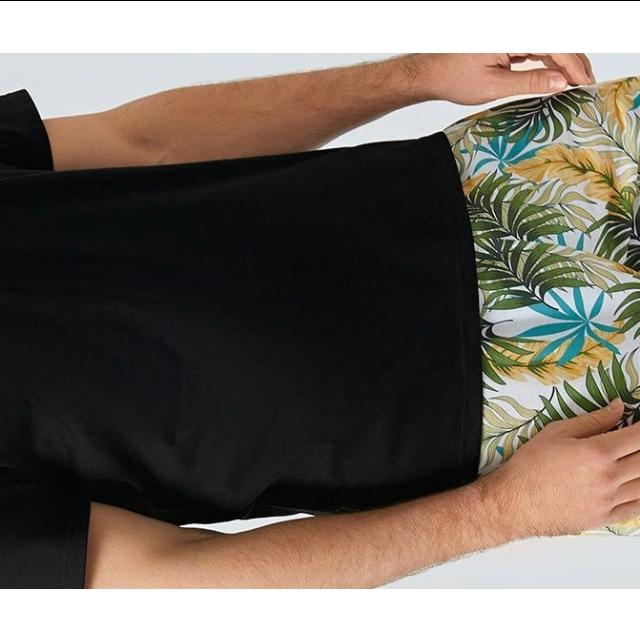polyester: (0, 77, 640, 589)
